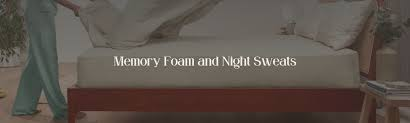bed-matress: (70, 28, 362, 90)
